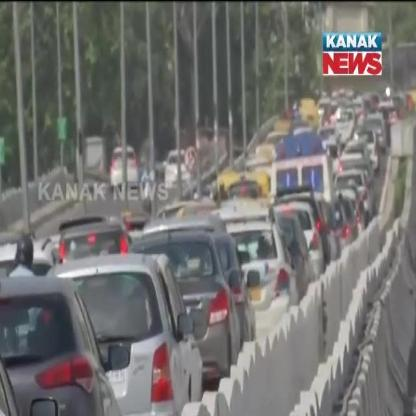priority: (266, 136, 334, 190)
